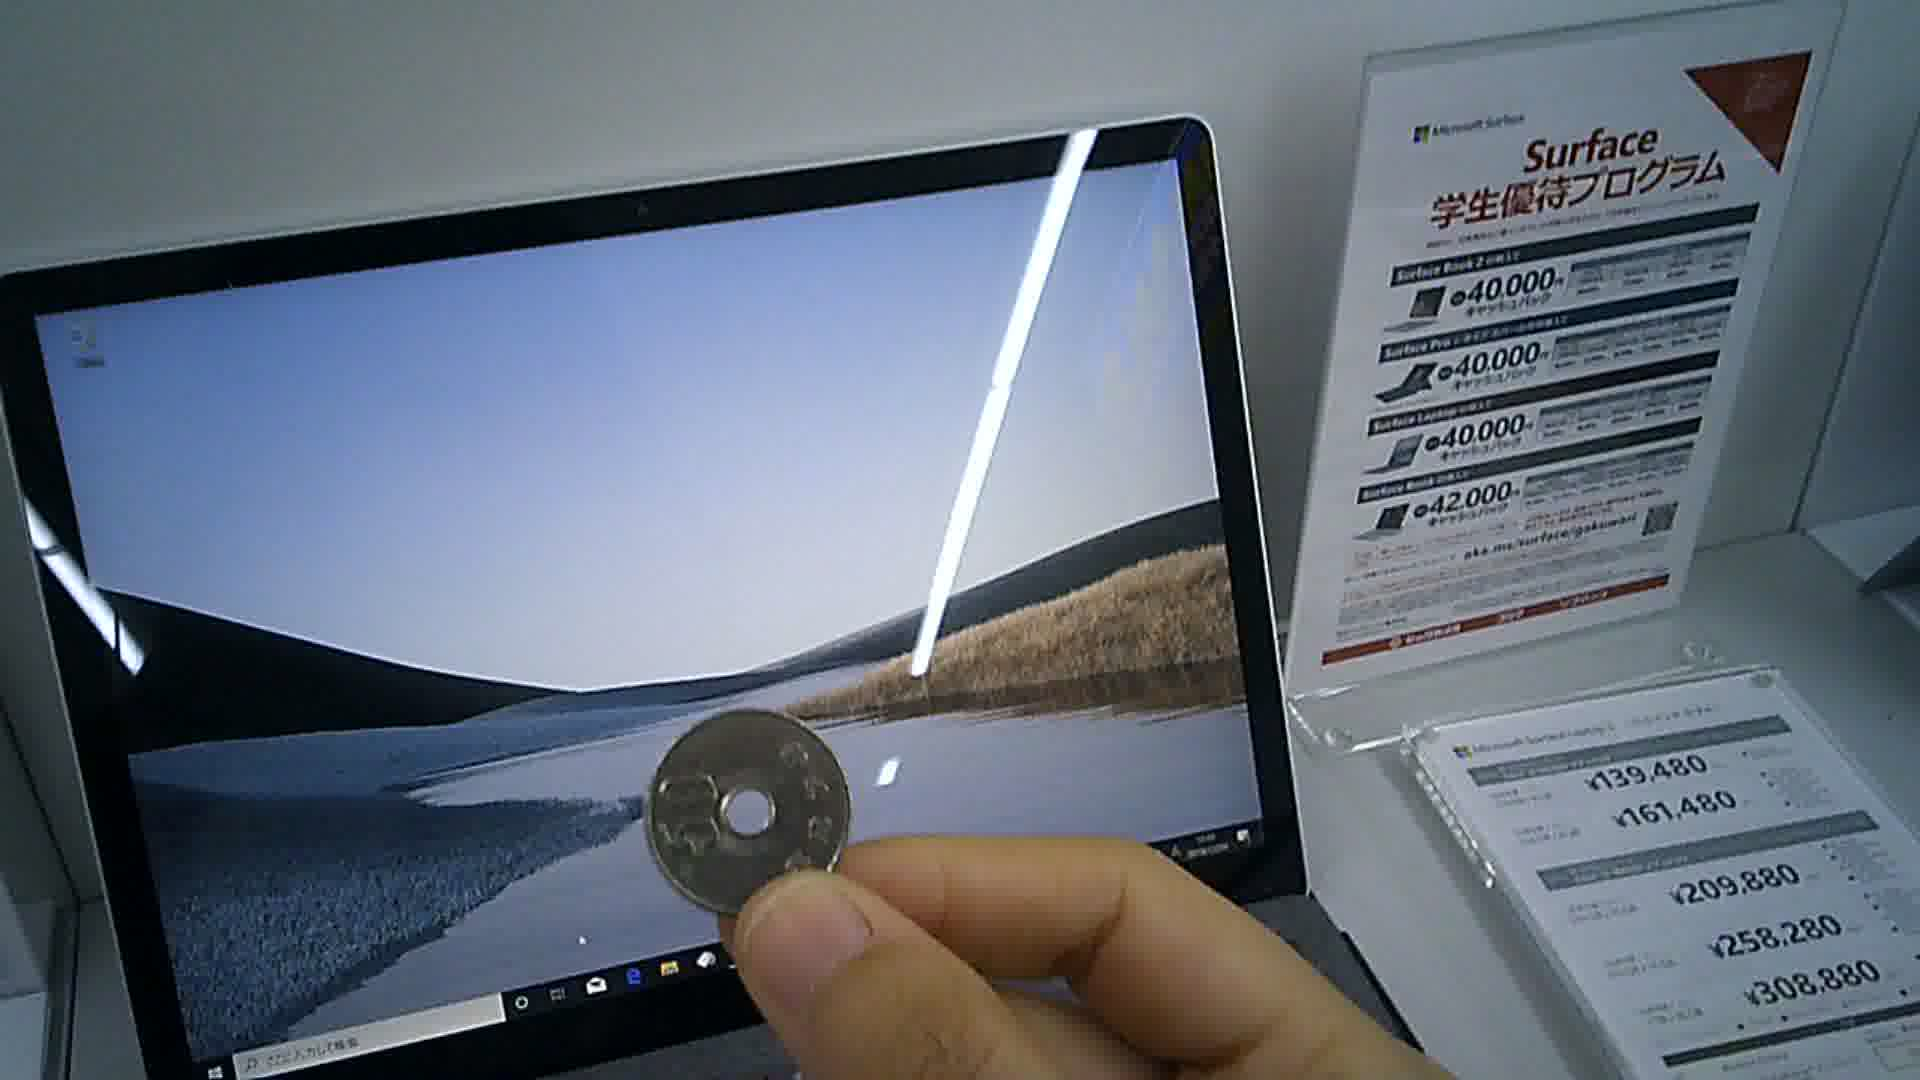50 Yen: (633, 703, 858, 924)
